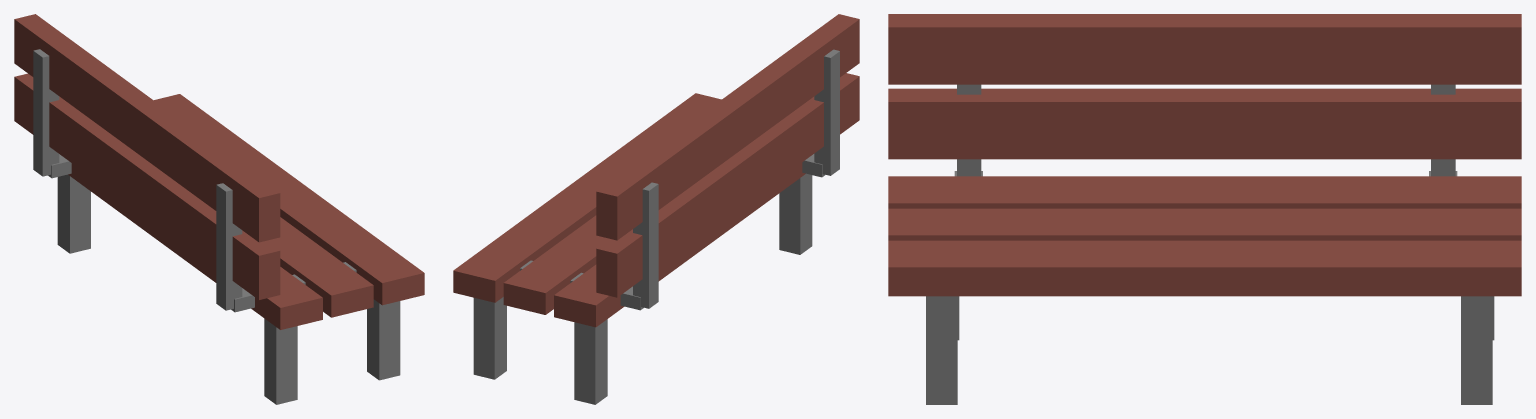
File: bench.fbx
The picture shows the model from 3 angles, left to right: view 1: azimuth 30°, elevation 25°; view 2: azimuth 150°, elevation 25°; view 3: azimuth 270°, elevation 25°; orthographic projection. The views are drawn at different scales.
Parts seen in each view (by area): view 1: Cube.001, Cube.006, Cube.010, Cube.008, Cube.009, Cube.011, Cube.012, Cube.013, Cube.015, Cube.016, Cube.007; view 2: Cube.001, Cube.006, Cube.010, Cube.008, Cube.009, Cube.013, Cube.014, Cube.011, Cube.016, Cube.015, Cube.017; view 3: Cube.006, Cube.001, Cube.010, Cube.008, Cube.009, Cube.012, Cube.014, Cube.016, Cube.015.
Boxes of the visible parts, bbox=[...] form: Cube.001: bbox=[14, 14, 280, 242]; Cube.006: bbox=[14, 73, 280, 299]; Cube.010: bbox=[154, 94, 424, 305]; Cube.008: bbox=[68, 163, 322, 329]; Cube.009: bbox=[267, 217, 373, 317]; Cube.011: bbox=[264, 318, 297, 404]; Cube.012: bbox=[367, 299, 400, 380]; Cube.013: bbox=[57, 174, 90, 253]; Cube.015: bbox=[216, 183, 242, 310]; Cube.016: bbox=[33, 49, 59, 176]; Cube.007: bbox=[231, 262, 356, 312]; Cube.001: bbox=[596, 14, 859, 240]; Cube.006: bbox=[596, 73, 859, 297]; Cube.010: bbox=[453, 93, 721, 302]; Cube.008: bbox=[554, 162, 805, 327]; Cube.009: bbox=[503, 215, 609, 314]; Cube.013: bbox=[574, 319, 607, 404]; Cube.014: bbox=[473, 297, 506, 379]; Cube.011: bbox=[779, 173, 812, 254]; Cube.016: bbox=[633, 182, 658, 308]; Cube.015: bbox=[814, 49, 839, 175]; Cube.017: bbox=[520, 260, 643, 310]; Cube.006: bbox=[888, 88, 1521, 159]; Cube.001: bbox=[888, 14, 1521, 84]; Cube.010: bbox=[888, 240, 1521, 296]; Cube.008: bbox=[888, 176, 1521, 208]; Cube.009: bbox=[888, 208, 1521, 240]; Cube.012: bbox=[926, 296, 957, 404]; Cube.014: bbox=[1461, 296, 1492, 404]; Cube.016: bbox=[1431, 84, 1455, 176]; Cube.015: bbox=[957, 84, 981, 176].
Size of the model in its own units: 81.25 by 102 by 200.
